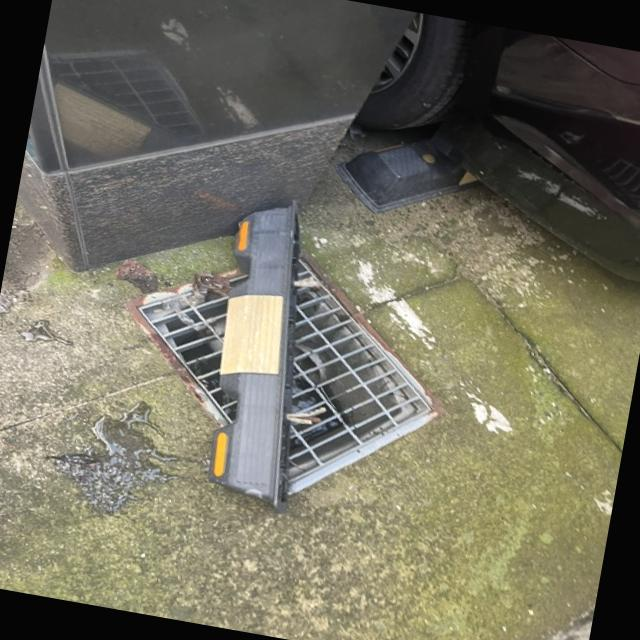drain_area: (287, 284, 430, 482), (138, 289, 236, 424), (297, 257, 314, 279), (229, 272, 247, 288)
drain_full: (139, 259, 432, 484)
